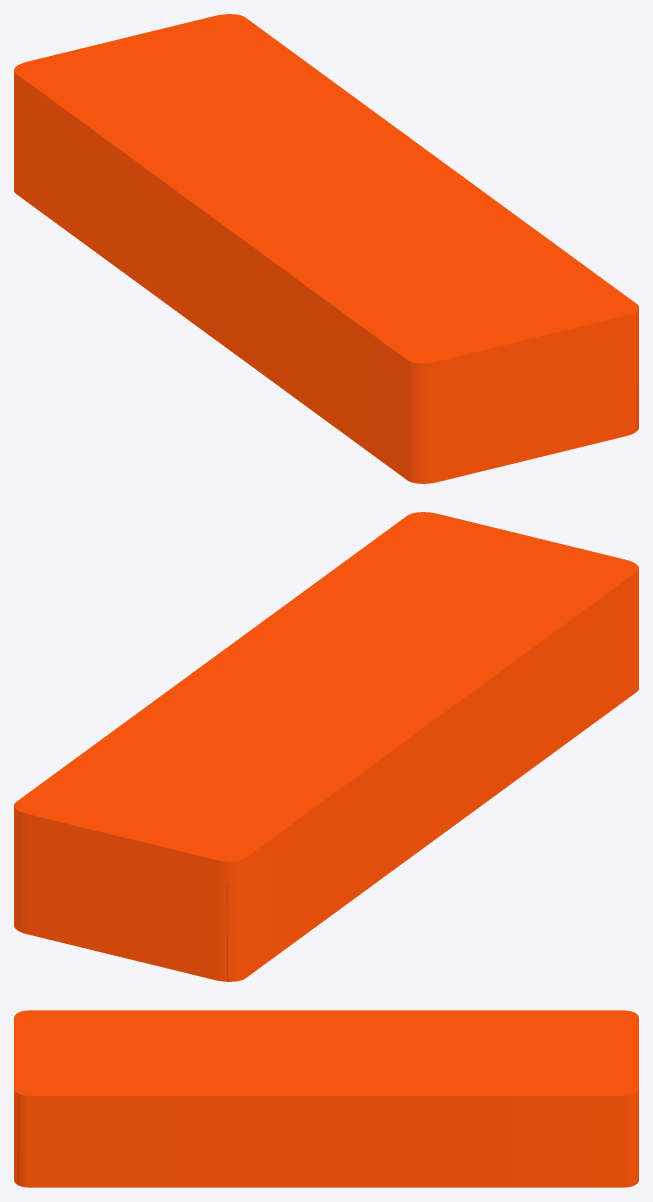
Rendered from button.glb.
The picture shows the model from 3 angles, top to bottom: view 1: azimuth 30°, elevation 25°; view 2: azimuth 150°, elevation 25°; view 3: azimuth 270°, elevation 25°; orthographic projection. The views are drawn at different scales.
Visible parts, largest first — view 1: Cube; view 2: Cube; view 3: Cube.
Boxes of the visible parts, x1,y1,x2,y2 form: Cube: (14, 14, 638, 483); Cube: (14, 512, 638, 981); Cube: (14, 1010, 638, 1187).
Bounding box in the file's own units: 1.34 × 0.6709 × 4.15.
1 material, 1 textured.
